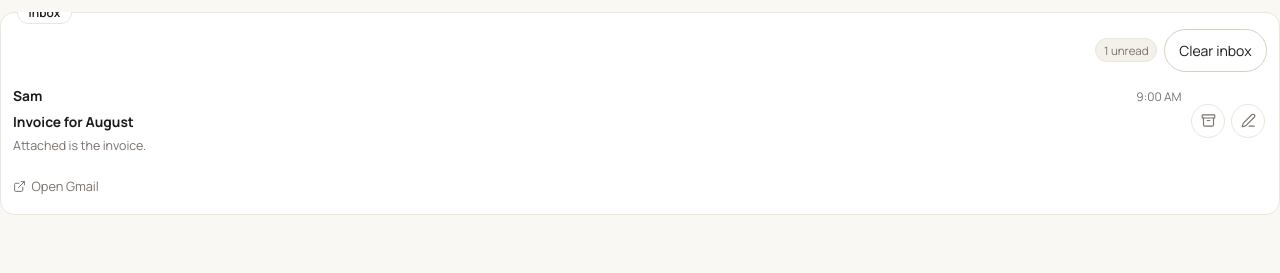
Test case: GmailSummaryCard archive › does not report success when the thread is missing from `archived`
Expected: the text "Invoice for August" is shown, [13,112,134,131]
What coordinates should you click on to do the following:
click the button named "Archive"
I would click on:
 (1208, 121)
Its box is [1191,104,1225,138].
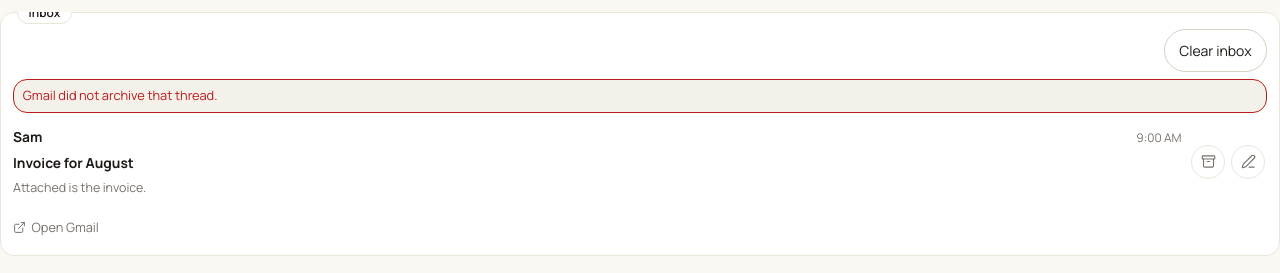
Expected: the text "Invoice for August" is shown, [13,153,134,172]
Expected: the message "Gmail did not archive that thread." is shown, [13,79,1267,113]
